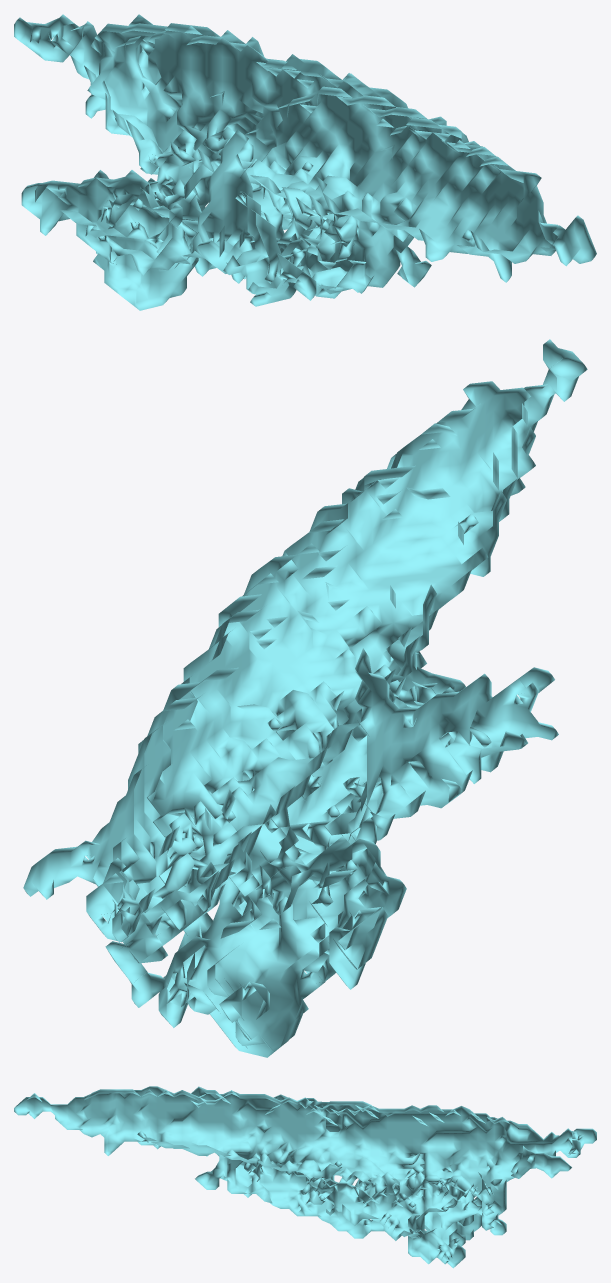
Rendered from osteocyte_35.glb.
3 views of the same model, one above another, from view 1: azimuth 30°, elevation 25°; view 2: azimuth 150°, elevation 25°; view 3: azimuth 270°, elevation 25° (orthographic). The views are drawn at different scales.
Parts seen in each view (by area): view 1: osteocyte_35; view 2: osteocyte_35; view 3: osteocyte_35.
Part boxes in pixels (x1,y1,x2,y2): osteocyte_35: (14, 14, 596, 310); osteocyte_35: (23, 339, 587, 1057); osteocyte_35: (14, 1086, 596, 1268).
Bounding box in the file's own units: 9.39 × 11.63 × 31.74.
